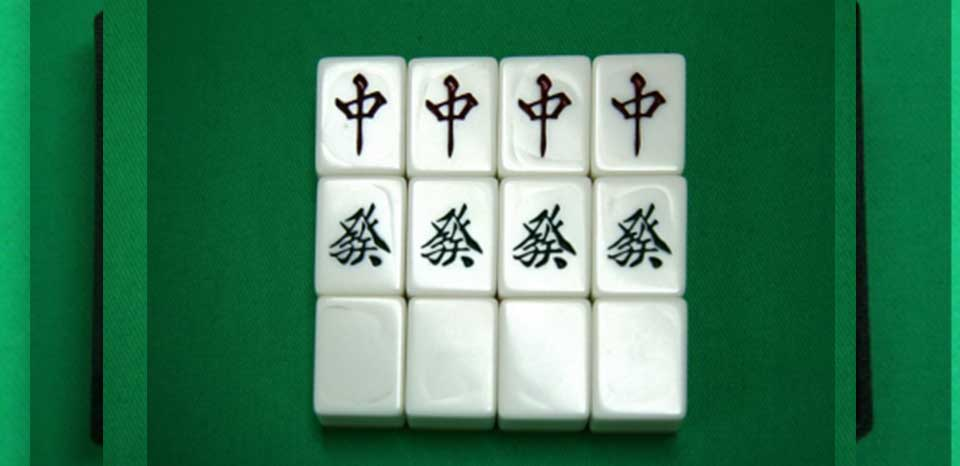honour_5: (318, 299, 400, 417)
honour_6: (318, 176, 407, 295)
honour_7: (316, 54, 404, 169)
